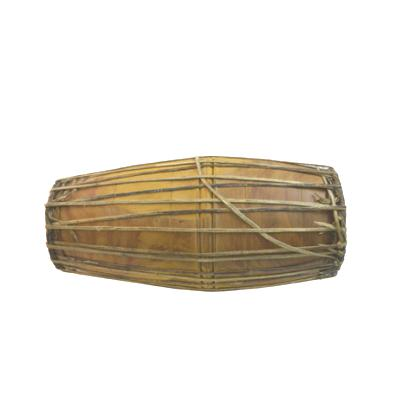Mridangam: (37, 157, 358, 297)
